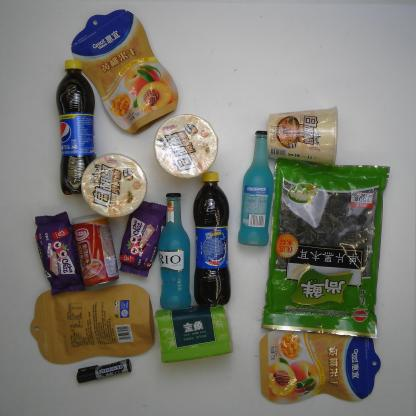Alcohol: (155, 189, 195, 315), (234, 130, 277, 246)
Canned Food: (71, 214, 122, 290)
Dessert: (33, 210, 87, 297), (116, 195, 170, 281)
Dried Food: (259, 152, 392, 338)
Dried Fruit: (68, 5, 180, 138), (30, 284, 155, 367), (257, 323, 382, 405)
Drink: (54, 58, 100, 199), (190, 170, 235, 312)
Instant Noodles: (77, 150, 149, 223), (263, 102, 344, 166), (154, 110, 221, 184)
Stationery: (75, 358, 133, 385)
Tissue: (153, 303, 234, 365)
